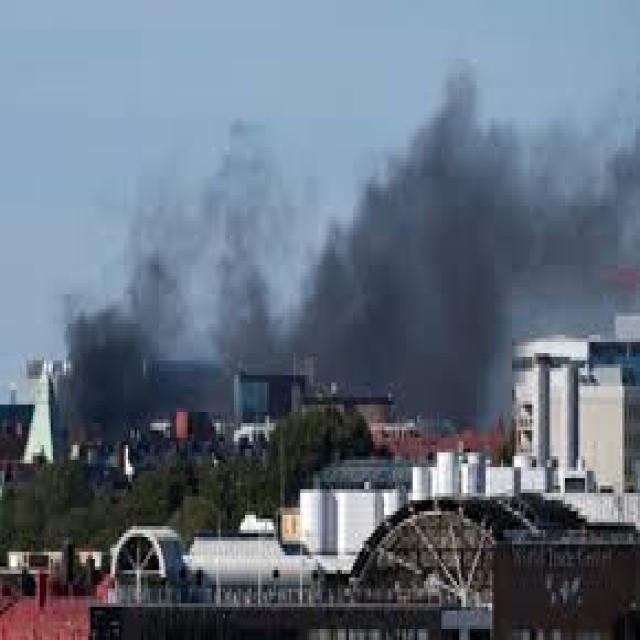Smoke: (50, 54, 640, 436)
